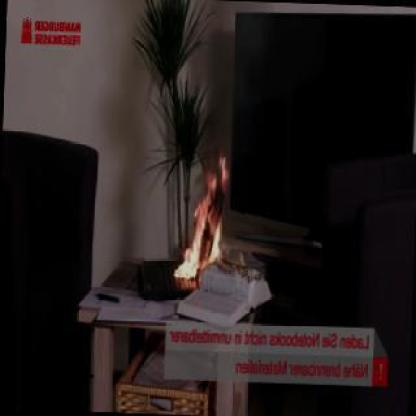Fire: (174, 154, 241, 283)
